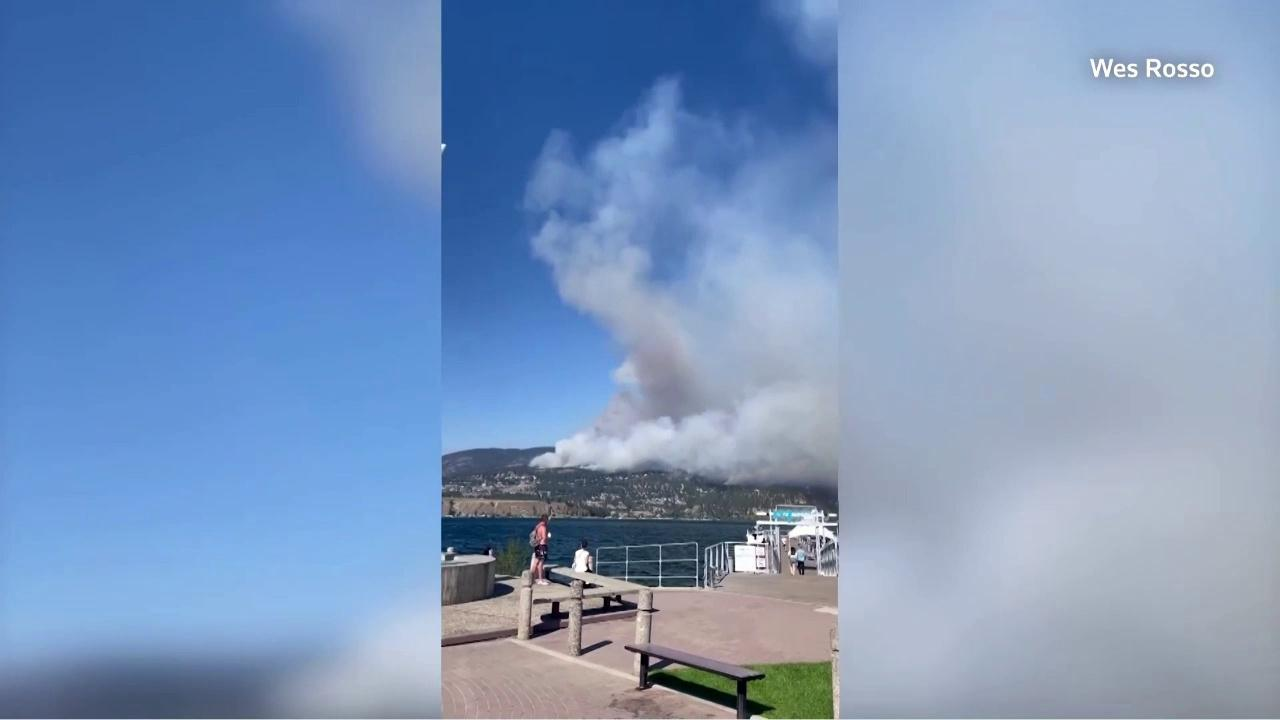smoke: (515, 0, 837, 496)
